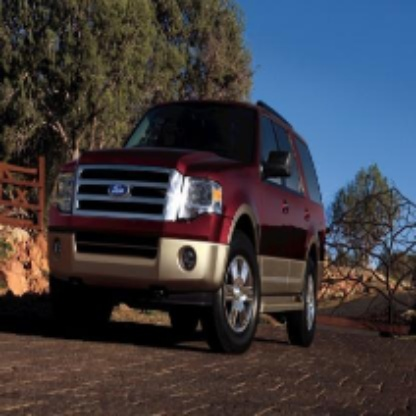Vehicle: (44, 99, 329, 360)
